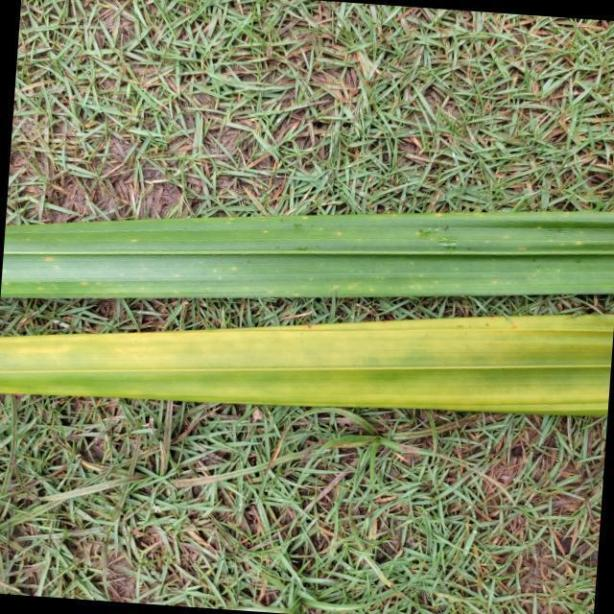nitrogen: (0, 312, 614, 419), (0, 197, 614, 294)
